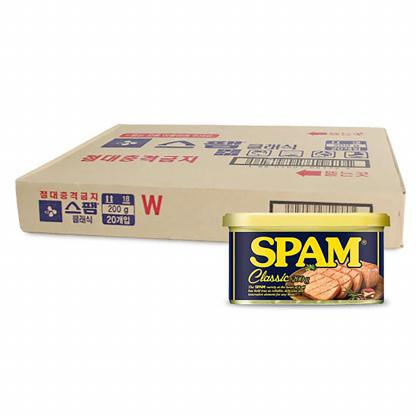spam: (223, 210, 388, 308)
